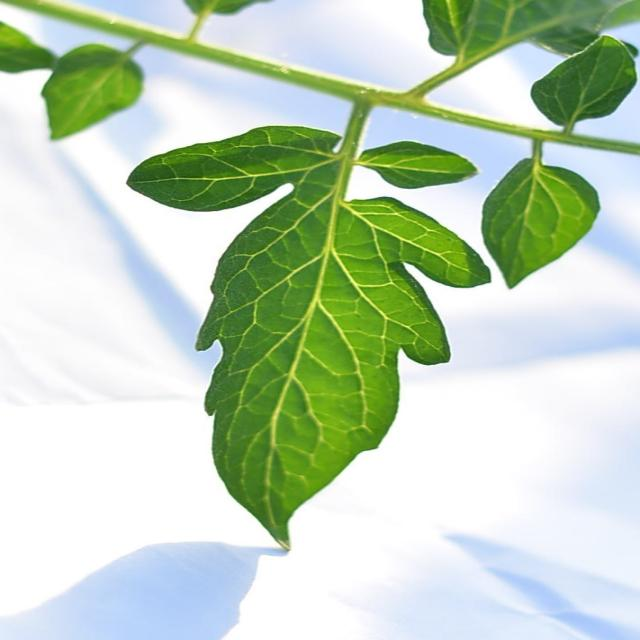healthy: (113, 123, 603, 555), (402, 0, 639, 139), (38, 27, 150, 144)
